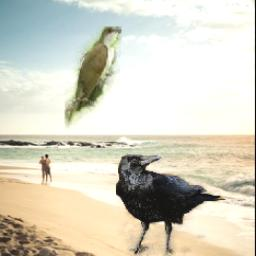Crow: (115, 154, 225, 256)
Cuckoo: (65, 28, 121, 136)
